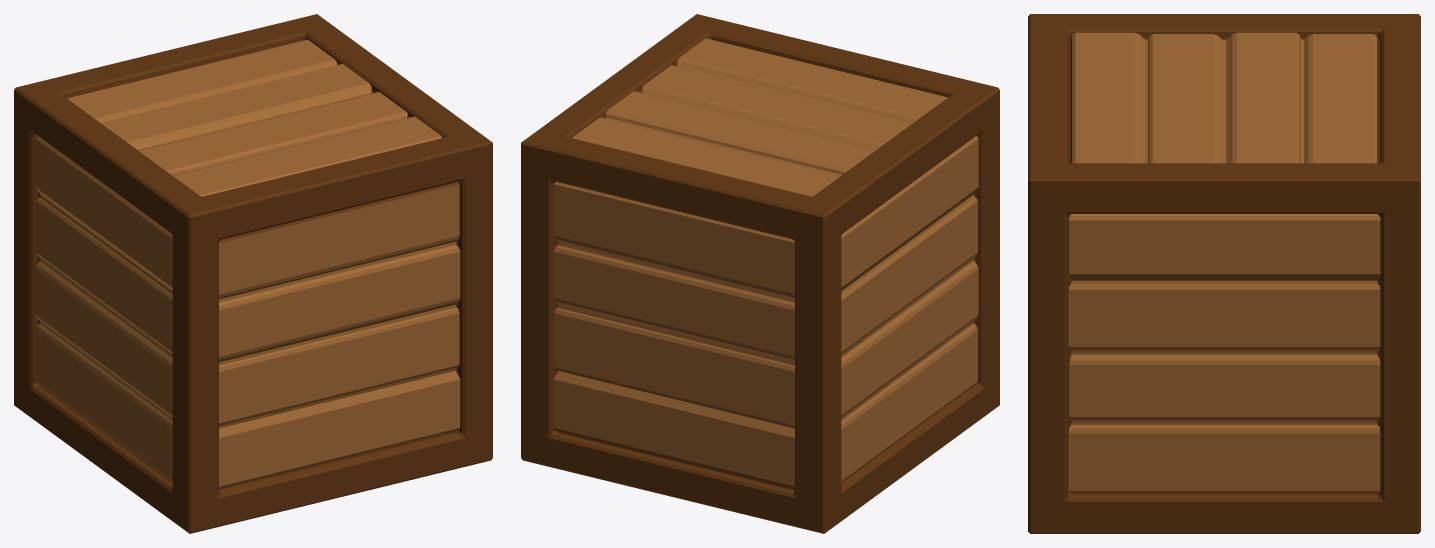
File: CrateExplode.gltf
3 views of the same model, side by side, from view 1: azimuth 30°, elevation 25°; view 2: azimuth 150°, elevation 25°; view 3: azimuth 270°, elevation 25° (orthographic). The views are drawn at different scales.
Parts seen in each view (by area): view 1: Cube.002; view 2: Cube.002; view 3: Cube.002.
Boxes of the visible parts, x1,y1,x2,y2 form: Cube.002: (14, 14, 492, 533); Cube.002: (521, 14, 999, 533); Cube.002: (1028, 14, 1420, 533).
Size of what is drawn, in the model's own units: 2.43 by 2.43 by 2.43.
